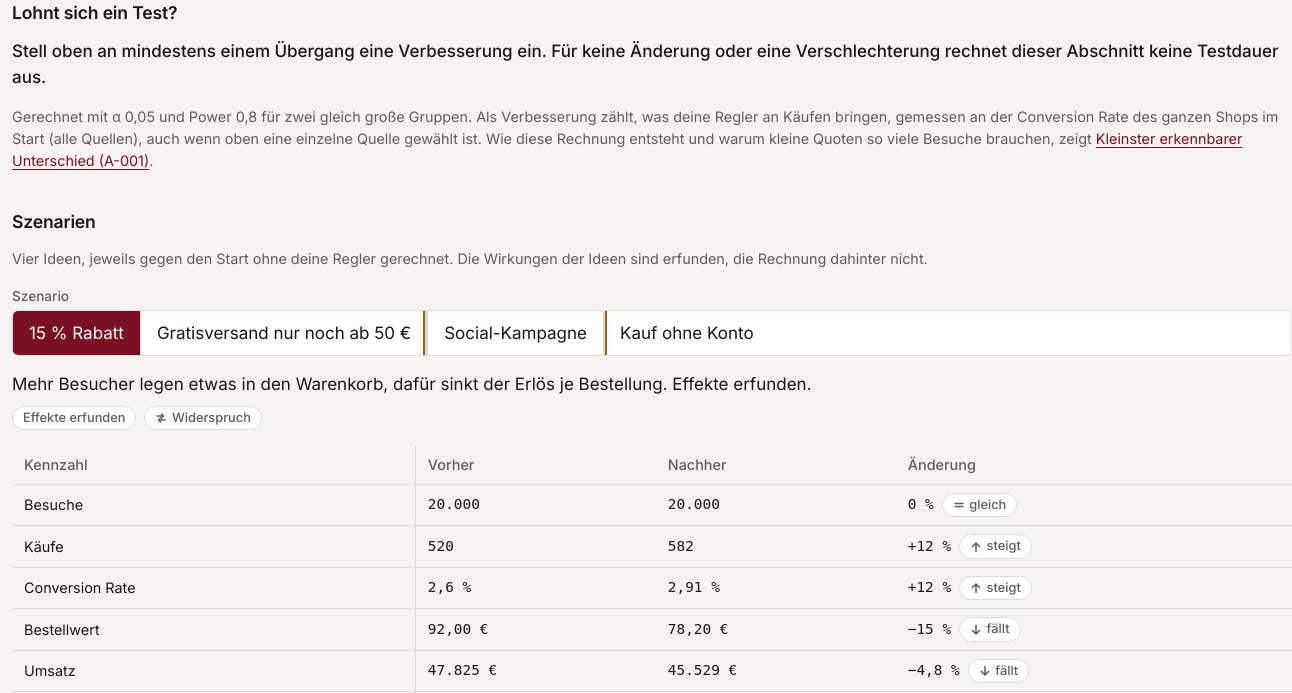
Test case: D-003 Demo: Szenarien › socialCampaign: Tabelle, Richtungen mit Wort, Widerspruch und Erkenntnis passen zusammen
(page scrolled)
Click the button "Social-Kampagne".
click(515, 333)  # box [427,311,603,355]
(page scrolled)
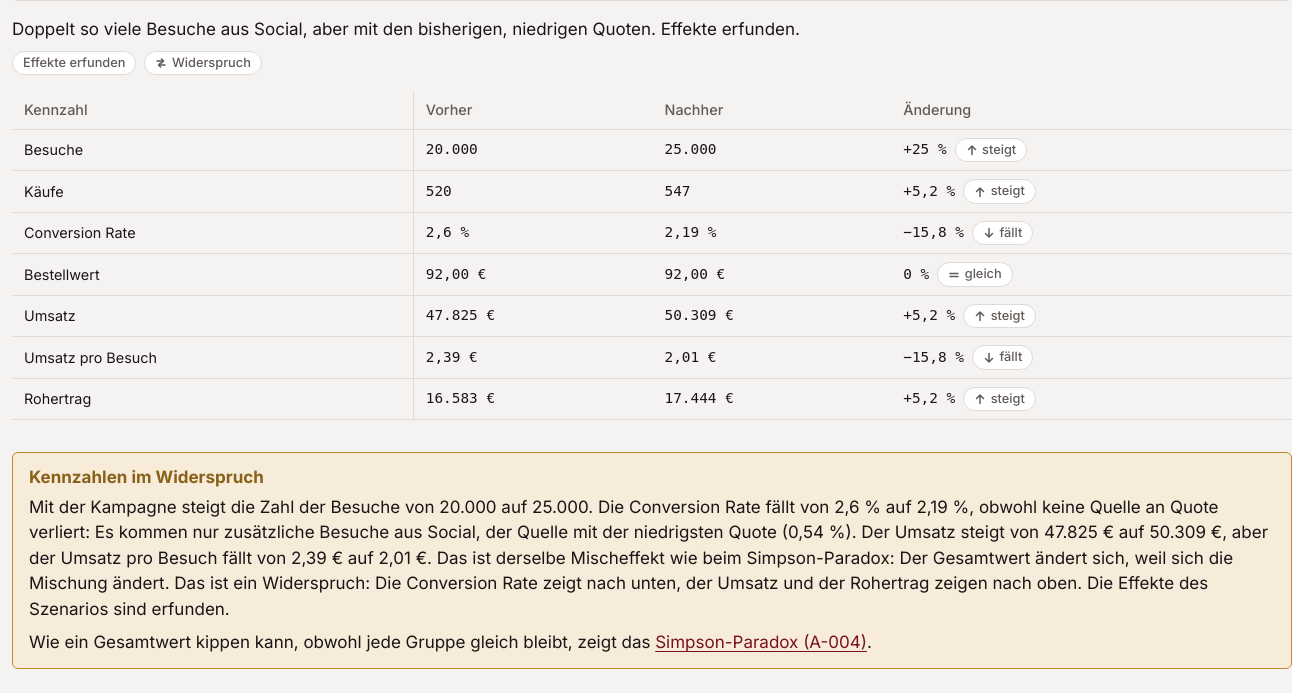
Expected: the icon next to "+25 %" is shown, [966,144,978,156]
Result: the row "Conversion Rate 2,6 % 2,19 % −15,8 % fällt" is shown at [12,213,1291,254]
